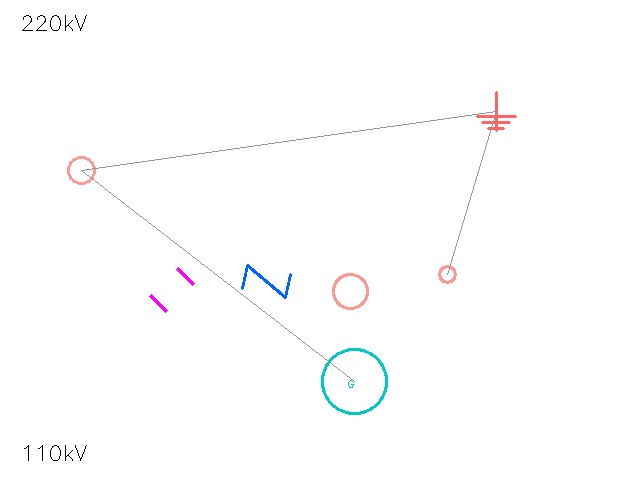capacitor: (140, 258, 204, 322)
circuit_breaker: (242, 257, 290, 305)
current_transformer: (55, 144, 107, 196)
generator: (322, 349, 386, 413)
ground: (477, 92, 515, 130)
reactor: (316, 257, 384, 325)
voltage_transformer: (431, 258, 463, 290)
